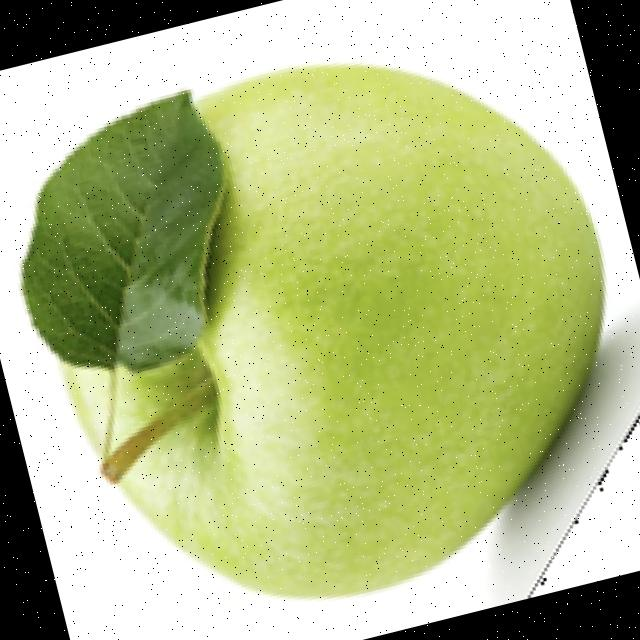apple: (13, 58, 640, 604)
